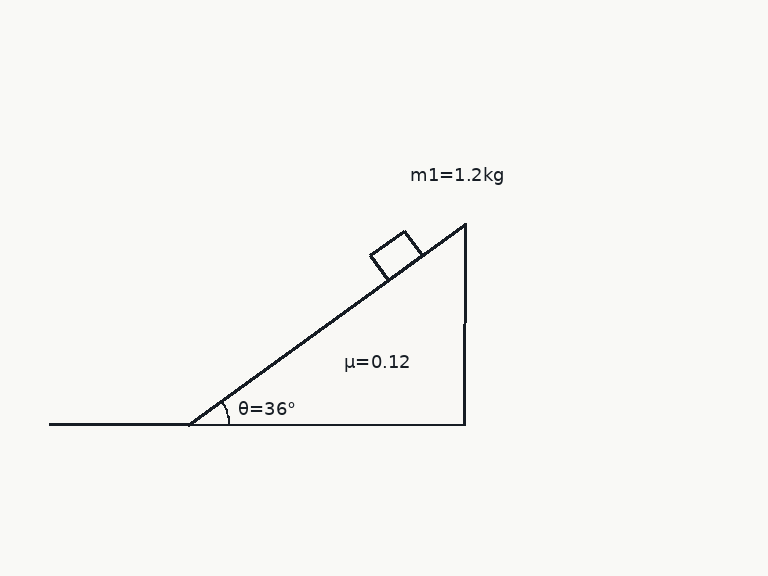block: (368, 228, 424, 282)
ramp: (187, 222, 467, 426)
